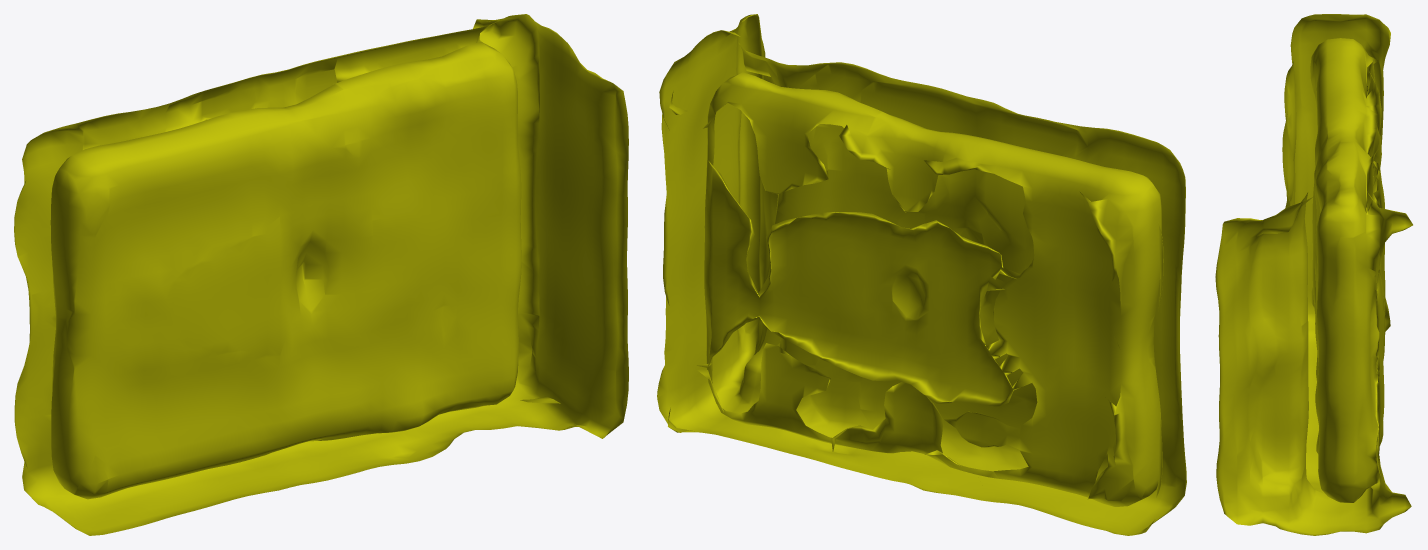
3 renders of one model, left to right at view 1: azimuth 30°, elevation 25°; view 2: azimuth 150°, elevation 25°; view 3: azimuth 270°, elevation 25°, orthographic. The views are drawn at different scales.
Visible parts, largest first — view 1: world; view 2: world; view 3: world.
Part boxes in pixels (bbox=[...]): world: bbox=[14, 14, 628, 535]; world: bbox=[657, 14, 1186, 535]; world: bbox=[1215, 14, 1412, 535].
Bounding box in the file's own units: 39.78 × 28.75 × 15.32.
